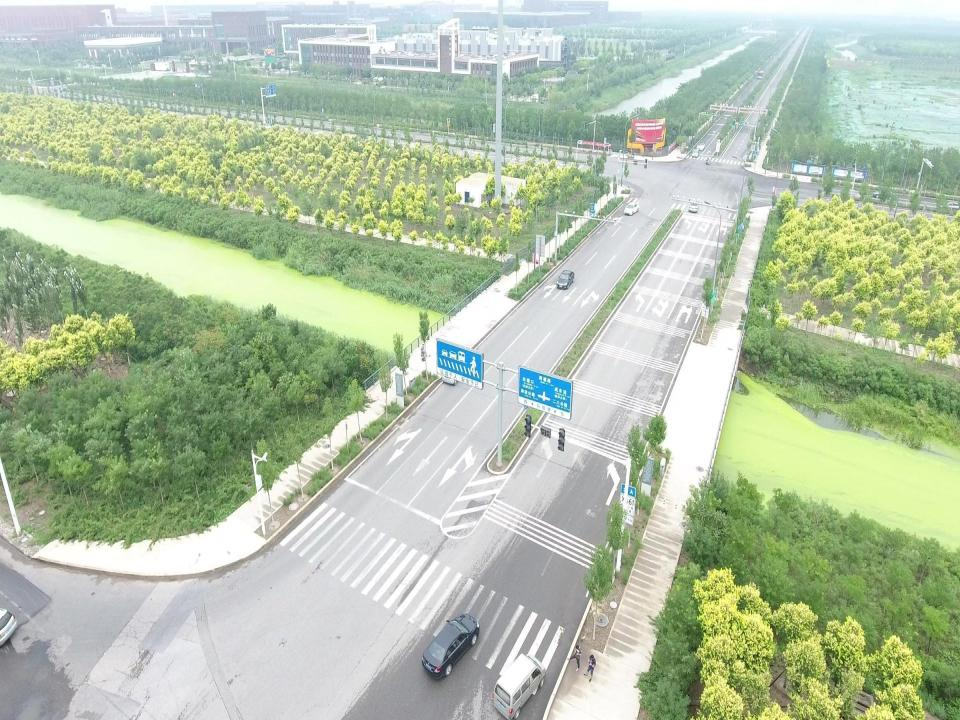bus: (757, 71, 763, 78)
car: (422, 613, 480, 679), (0, 607, 18, 651), (441, 361, 467, 386), (556, 270, 574, 290), (873, 188, 893, 199), (941, 201, 959, 213), (624, 202, 638, 216), (689, 200, 699, 212), (697, 142, 705, 151), (692, 150, 700, 158)
van: (492, 652, 546, 720)
